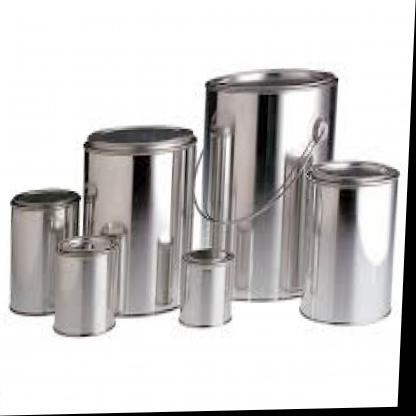Metal: (12, 2, 410, 416)
